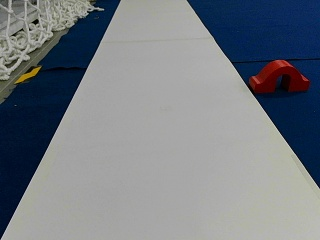bridge: (250, 60, 308, 91)
